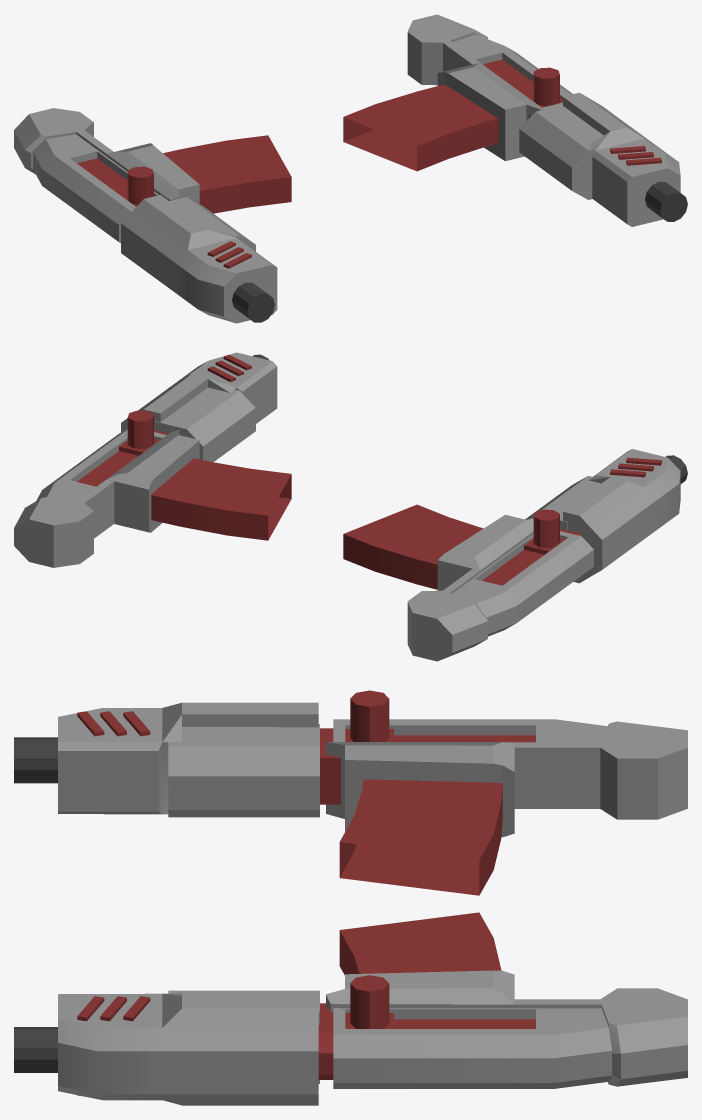
Rendered from PlayerShotgun.fbx.
3 renders of one model, top to bottom at view 1: azimuth 30°, elevation 25°; view 2: azimuth 150°, elevation 25°; view 3: azimuth 270°, elevation 25°, orthographic. The views are drawn at different scales.
Visible parts, largest first — view 1: pCylinder2; view 2: pCylinder2; view 3: pCylinder2.
Part boxes in pixels (x1,y1,x2,y2): pCylinder2: [14, 14, 687, 323]; pCylinder2: [14, 352, 687, 661]; pCylinder2: [14, 690, 687, 1105].
Bounding box in the file's own units: 193 × 29.77 × 163.
